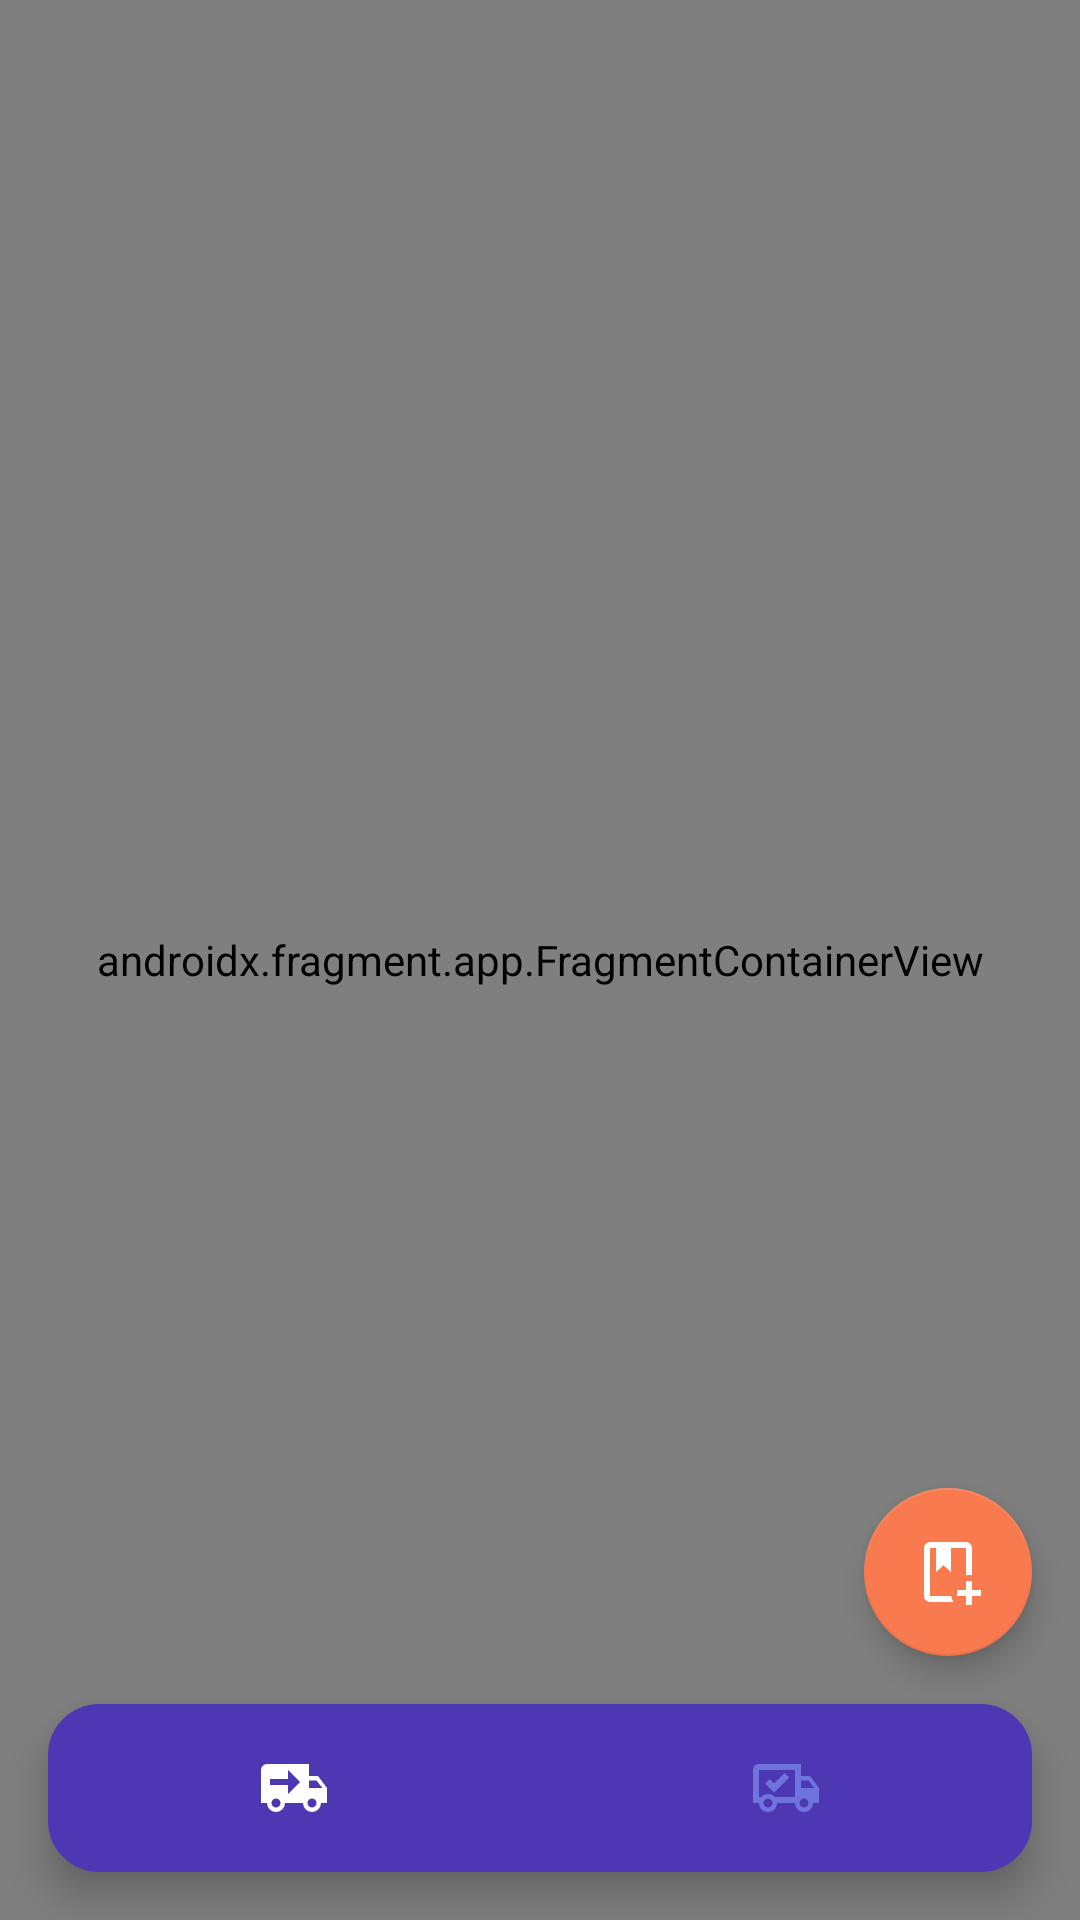

Icons on this 1080 × 1920 Android screen, each with the point to tap as [x,y]:
Adiciona um novo item: [948,1572]
